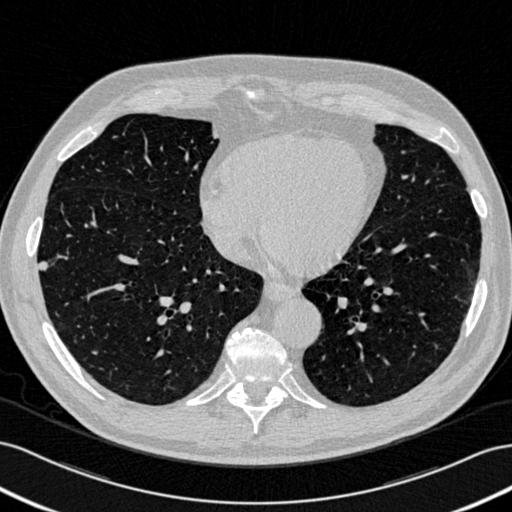nodule: (36, 258, 50, 272)
